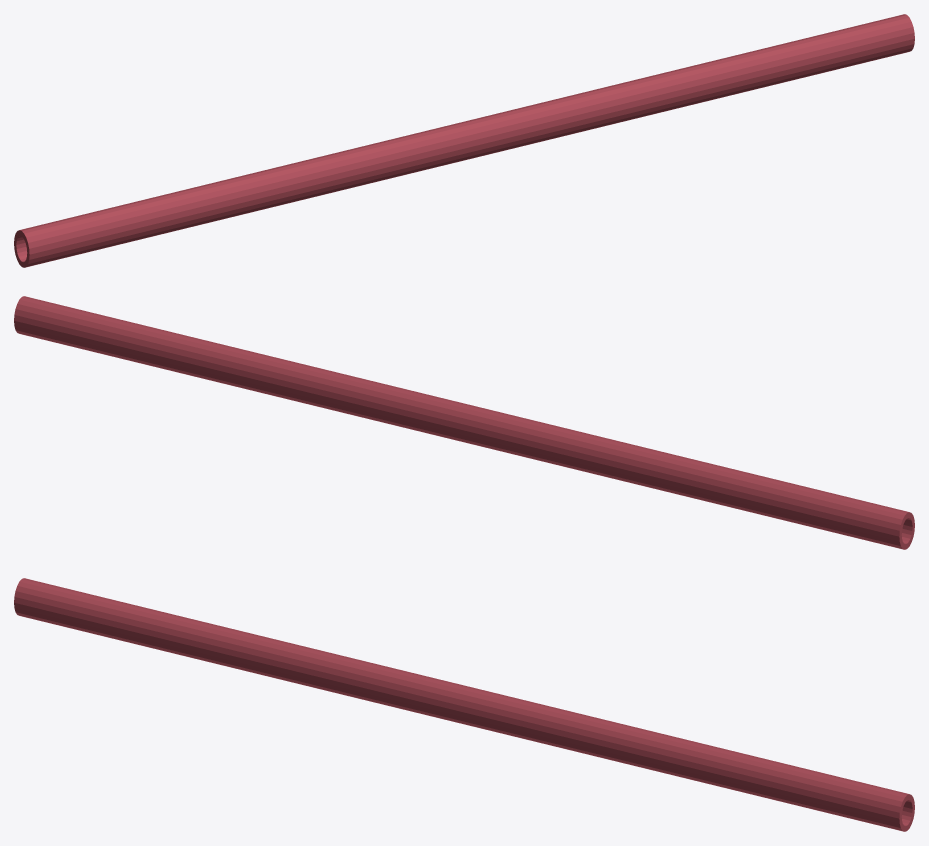
The model's file is dranmar_rescue_vessel_compressed.glb.
3 views of the same model, one above another, from view 1: azimuth 30°, elevation 25°; view 2: azimuth 150°, elevation 25°; view 3: azimuth 330°, elevation 25° (orthographic).
Parts seen in each view (by area): view 1: Vessel; view 2: Vessel; view 3: Vessel.
Part boxes in pixels (box(x1,y1,x2,y2)): Vessel: box(14, 14, 914, 267); Vessel: box(14, 296, 914, 549); Vessel: box(14, 578, 914, 831).
Size of the model in its own units: 0.13 by 0.00505 by 0.00396.
